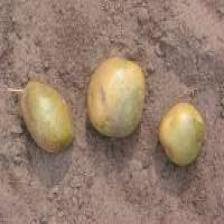Defected potato: (85, 56, 148, 140), (15, 81, 76, 152), (158, 96, 210, 171)
